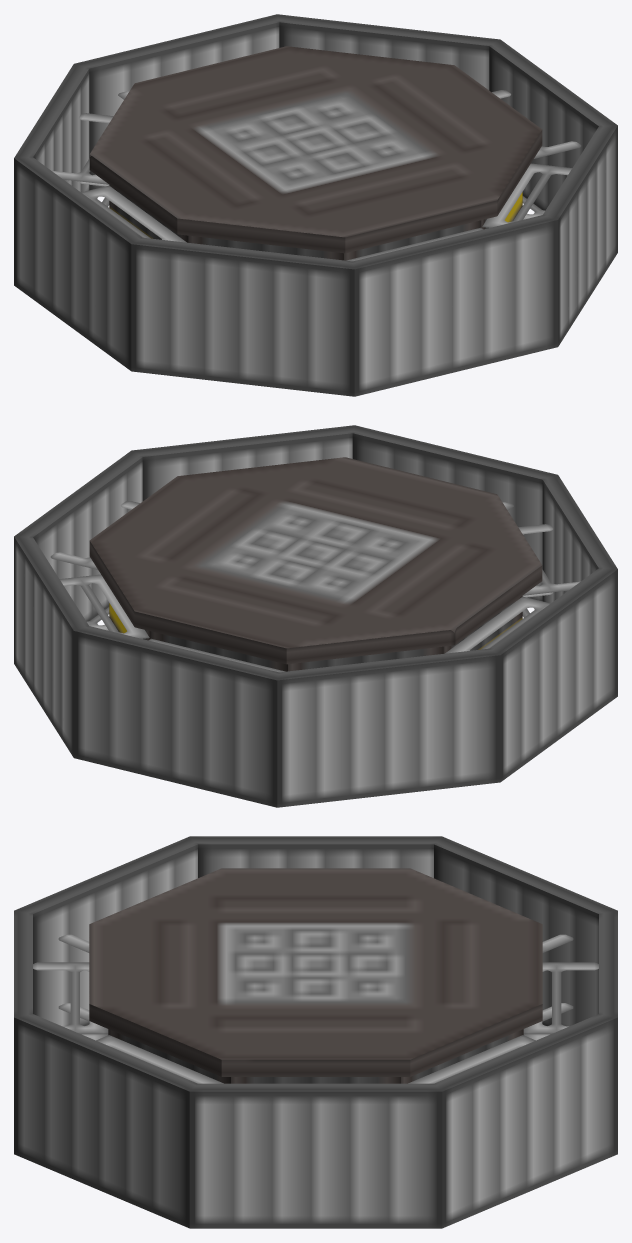
File: fraction_spacer.obj
The picture shows the model from 3 angles, top to bottom: view 1: azimuth 30°, elevation 25°; view 2: azimuth 150°, elevation 25°; view 3: azimuth 270°, elevation 25°; orthographic projection. The views are drawn at different scales.
Parts seen in each view (by area): view 1: Plane; view 2: Plane; view 3: Plane.
Part boxes in pixels (<box>): Plane: <box>14,14,617,396</box>; Plane: <box>14,425,617,807</box>; Plane: <box>14,836,617,1228</box>.
Size of the model in its own units: 4 by 1 by 4.
